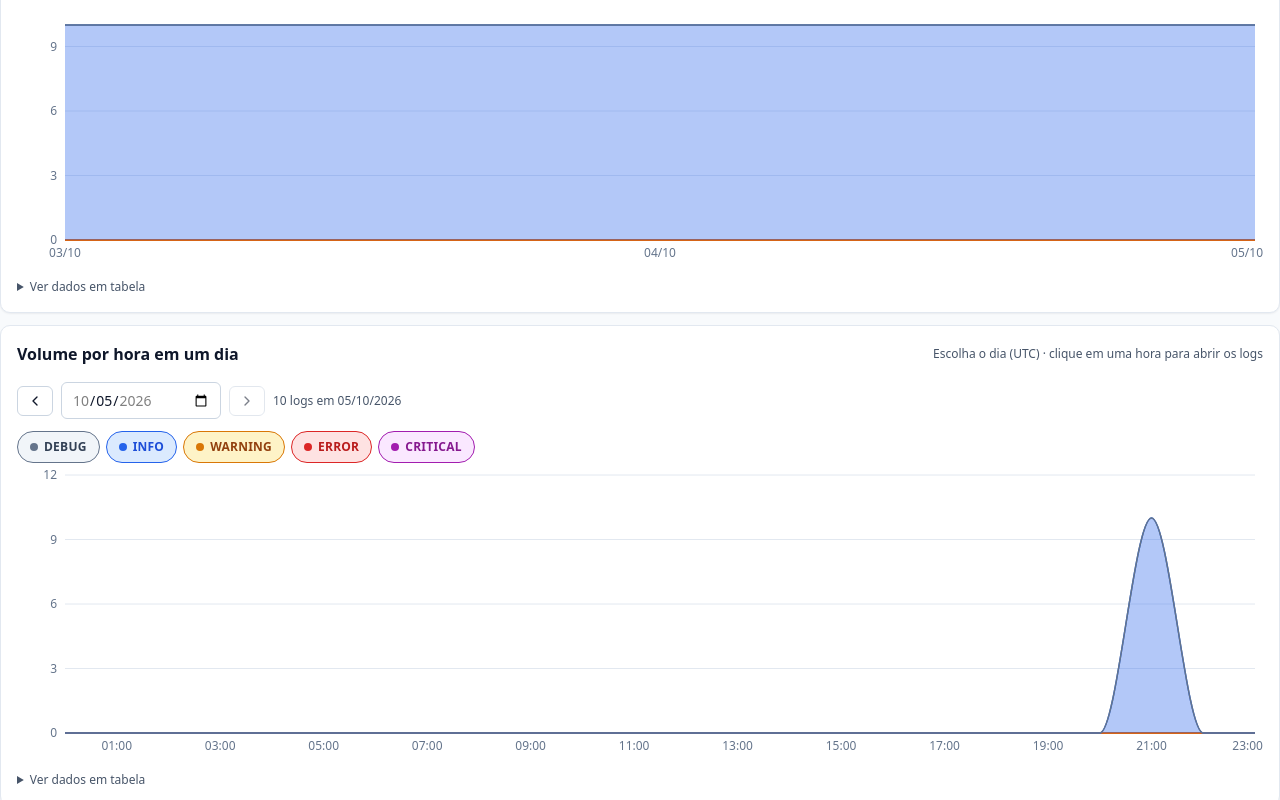
it: DashboardPage › shows one chosen day by hour, defaulting to the last day with logs
(page scrolled)
expect the date field named "Dia" holds "2026-10-05": met, box [61,382,221,419]
expect the button named "Próximo dia" is disabled: met, box [229,386,265,416]
Step 1. Click the button named "Dia anterior" → (35, 401), box [17,386,53,416]
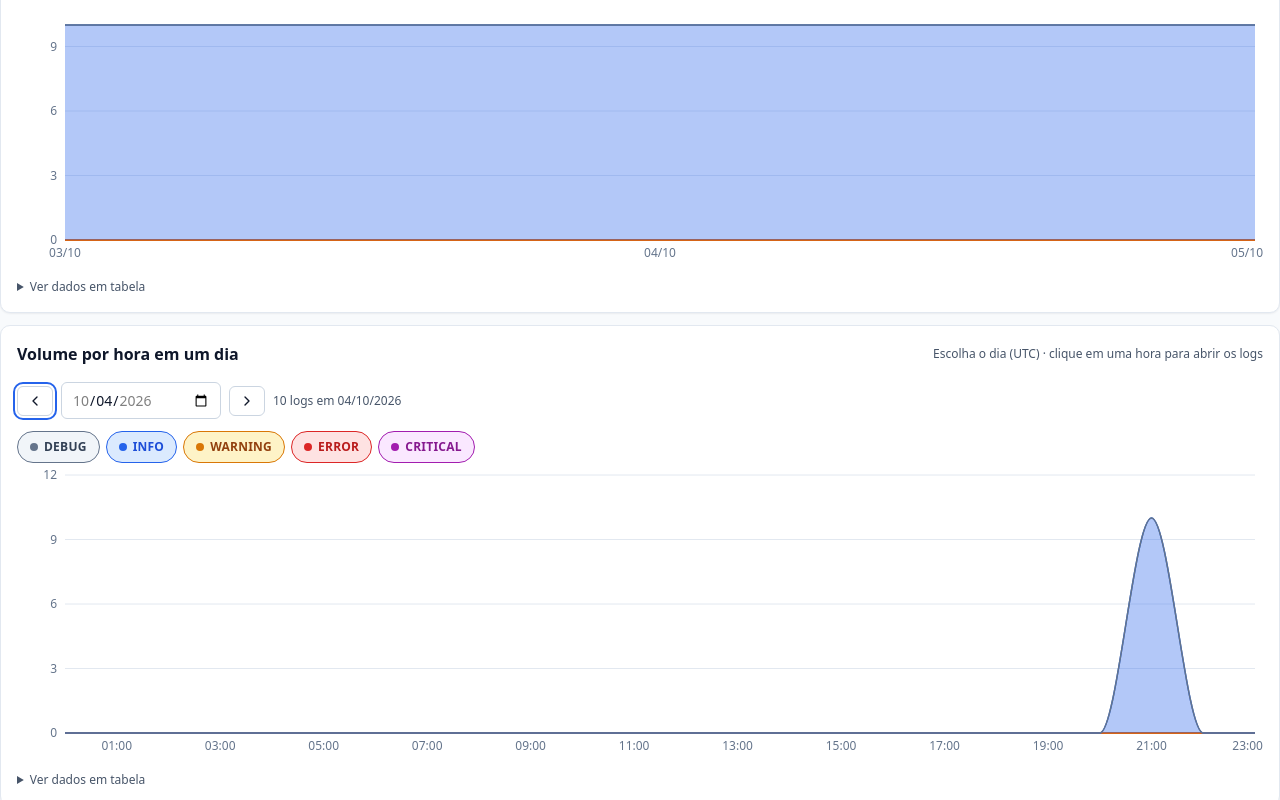
expect the date field named "Dia" holds "2026-10-04": met, box [61,382,221,419]
